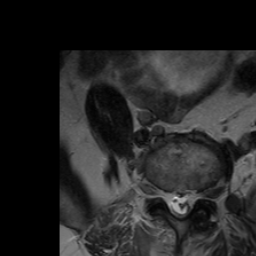CCS_normal: (175, 184, 184, 225)
LFS_stenosis: (194, 181, 204, 208)
LLS_normal: (184, 184, 194, 222)
RFS_normal: (157, 178, 166, 207)
RLS_normal: (166, 181, 175, 222)
